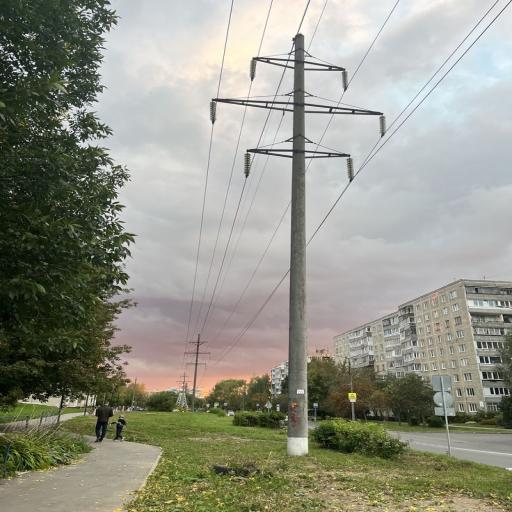phone: (288, 34, 308, 456), (186, 335, 209, 411), (441, 377, 451, 456), (191, 335, 199, 412), (56, 396, 64, 428), (131, 376, 137, 410), (348, 359, 353, 393), (84, 395, 89, 415), (314, 409, 317, 421)
ramp: (451, 433, 511, 468), (451, 434, 511, 468)
shelf: (0, 437, 161, 511), (28, 416, 57, 427)
